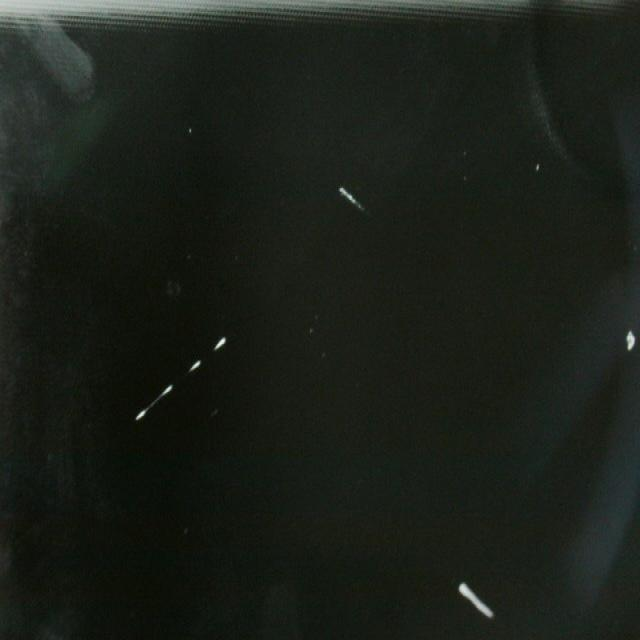scratch: (132, 323, 232, 427), (452, 575, 502, 623), (335, 178, 370, 224)
very small scratch: (622, 322, 638, 360)
